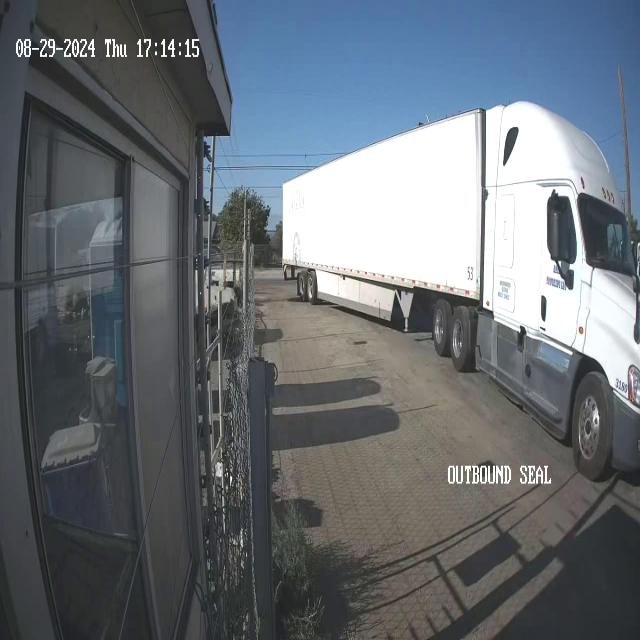CONTAINER: (280, 97, 484, 304)
